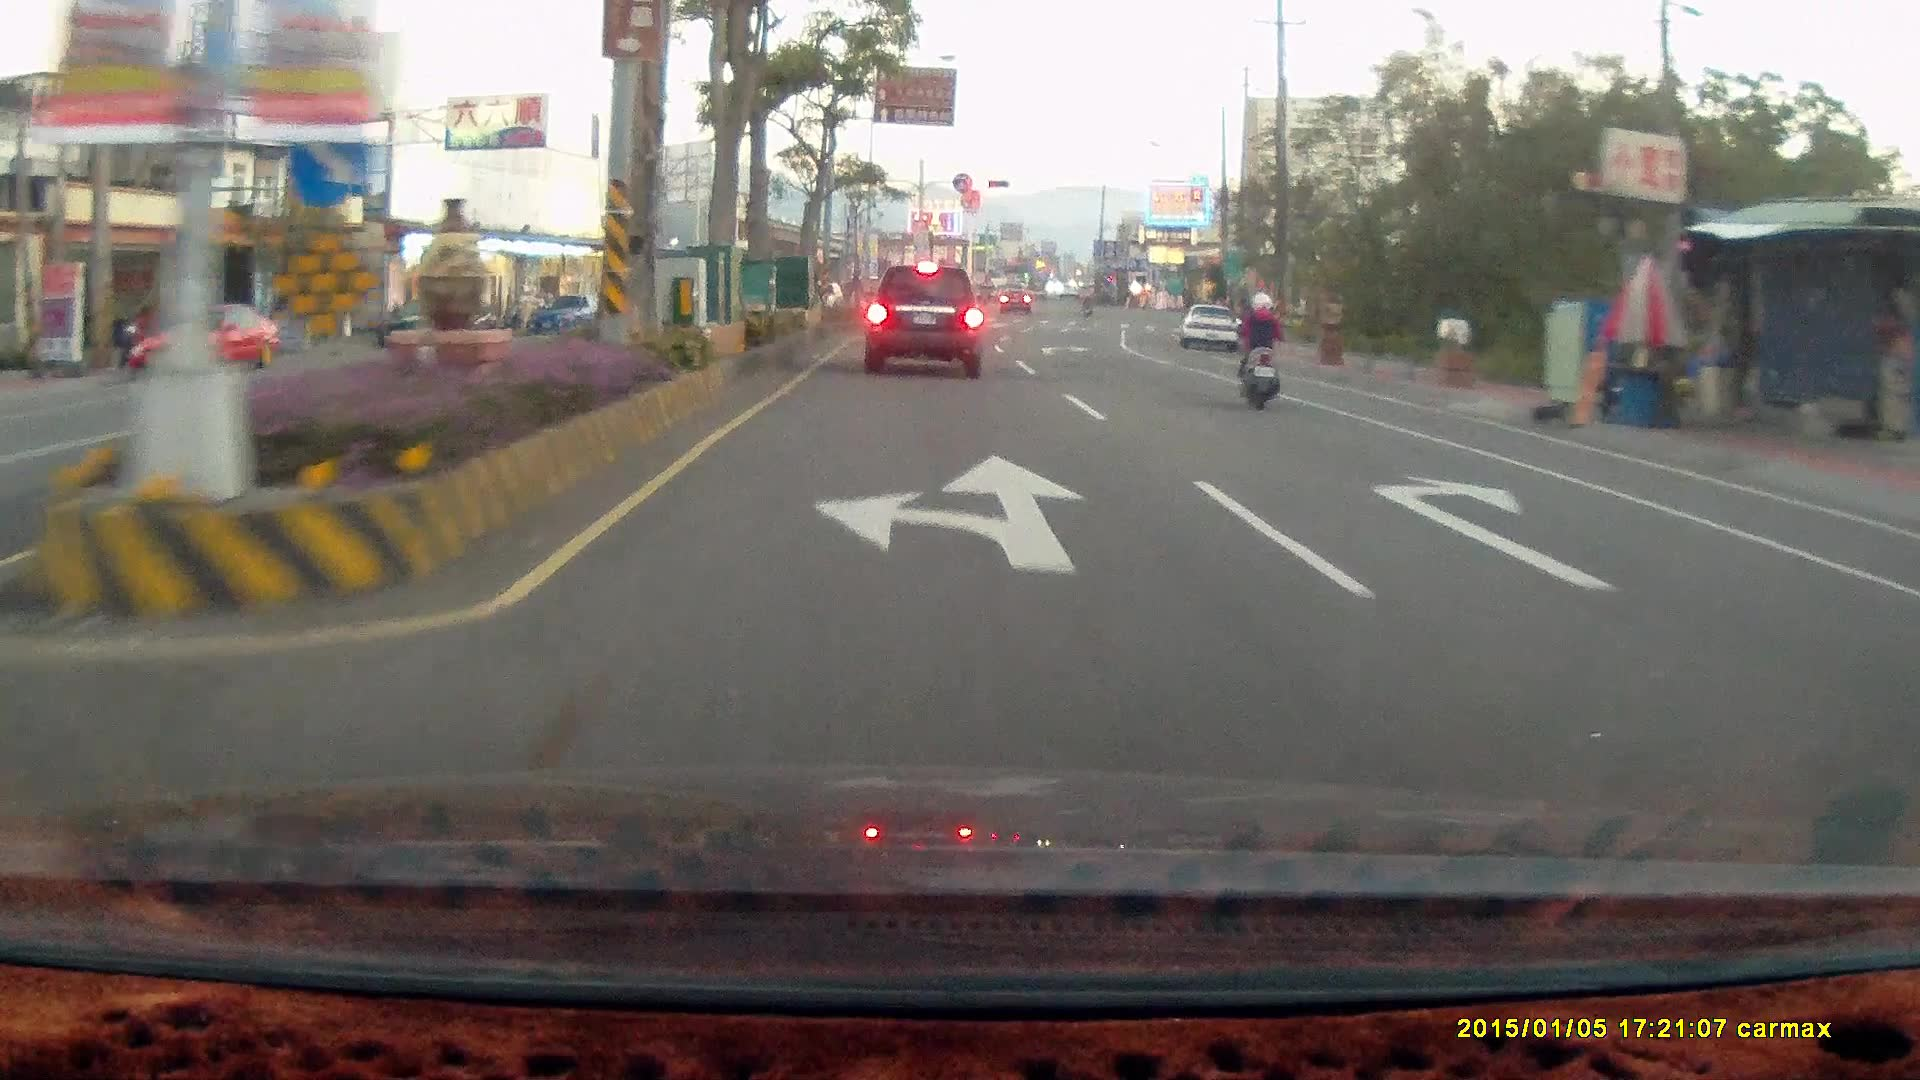rider: (1232, 289, 1286, 411)
vehicle: (864, 264, 979, 379), (128, 298, 277, 380), (1896, 493, 1920, 836), (1883, 528, 1920, 690), (383, 298, 488, 347), (1179, 304, 1240, 355), (1179, 303, 1240, 352)
